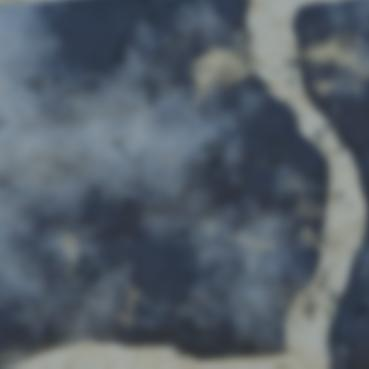broken_brick: (0, 0, 324, 368), (292, 0, 368, 218), (328, 236, 368, 368)
crack: (244, 0, 368, 368)
